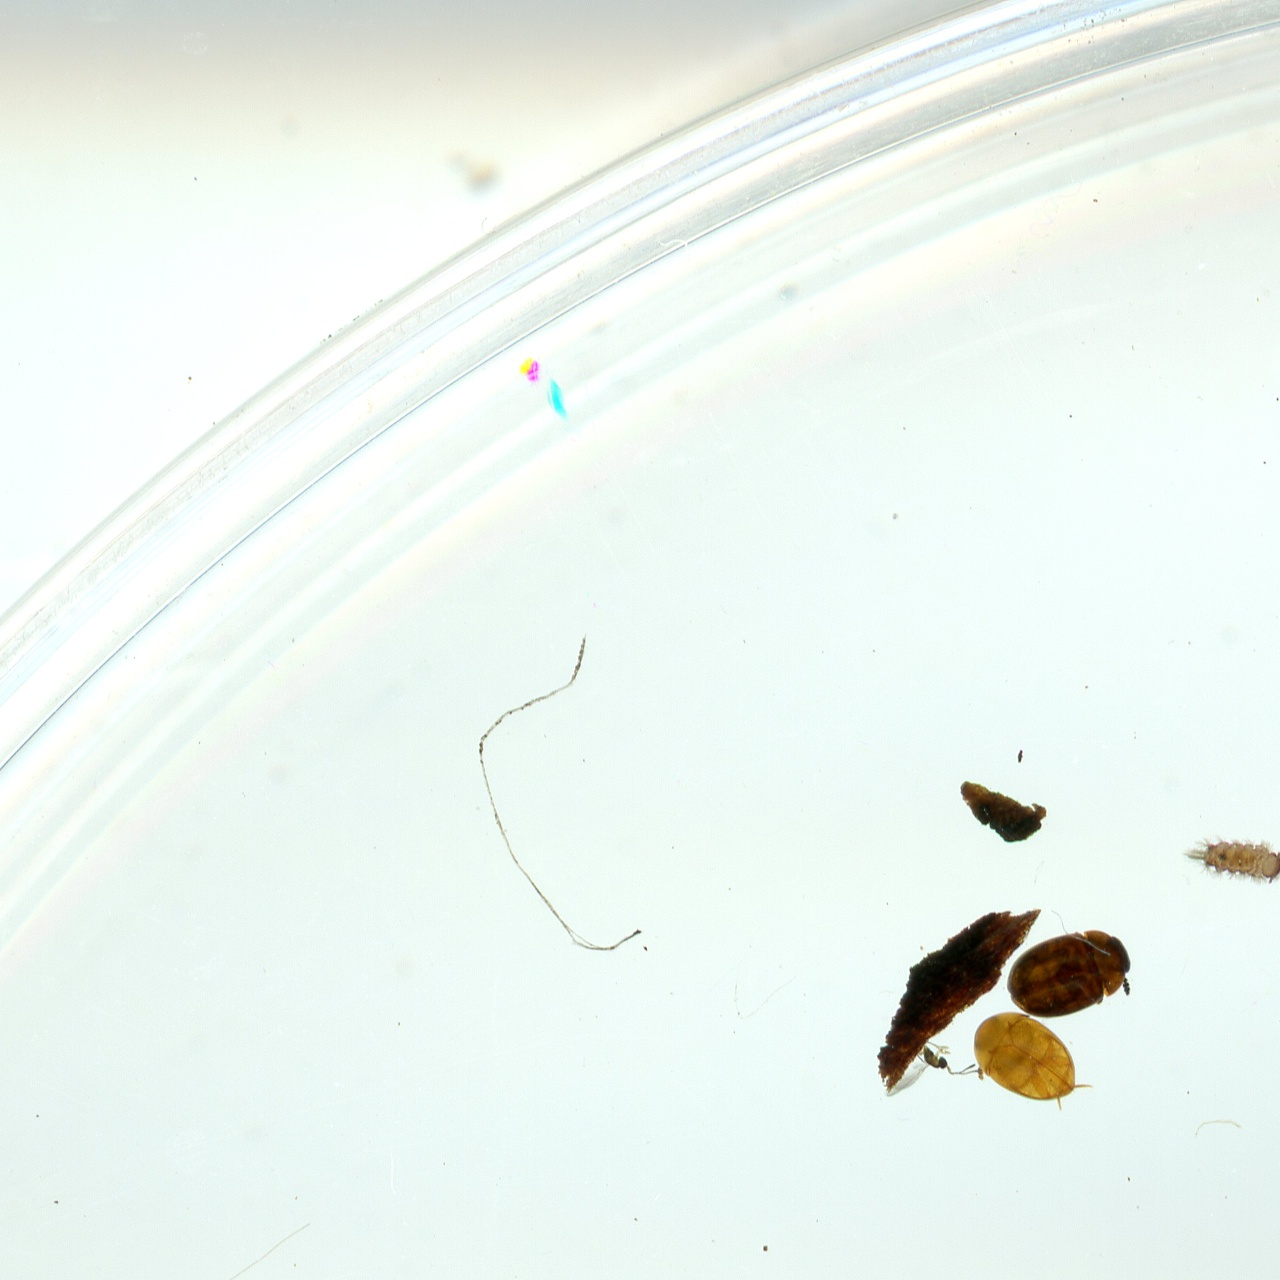arthropod: (971, 1009, 1088, 1112), (1005, 926, 1137, 1008), (1180, 828, 1280, 886), (895, 1044, 968, 1100)
